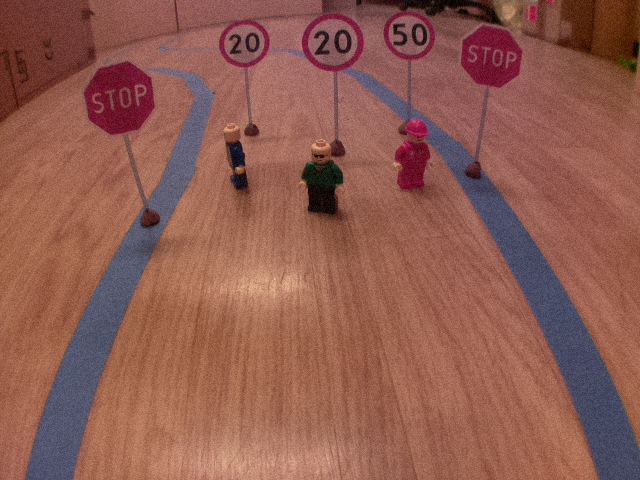LEGO_person: (296, 136, 350, 221), (392, 113, 435, 193), (219, 121, 253, 193)
ogr_20: (299, 9, 366, 75), (215, 17, 273, 70)
ogr_50: (381, 9, 437, 62)
stop: (78, 57, 160, 138), (455, 20, 527, 92)
